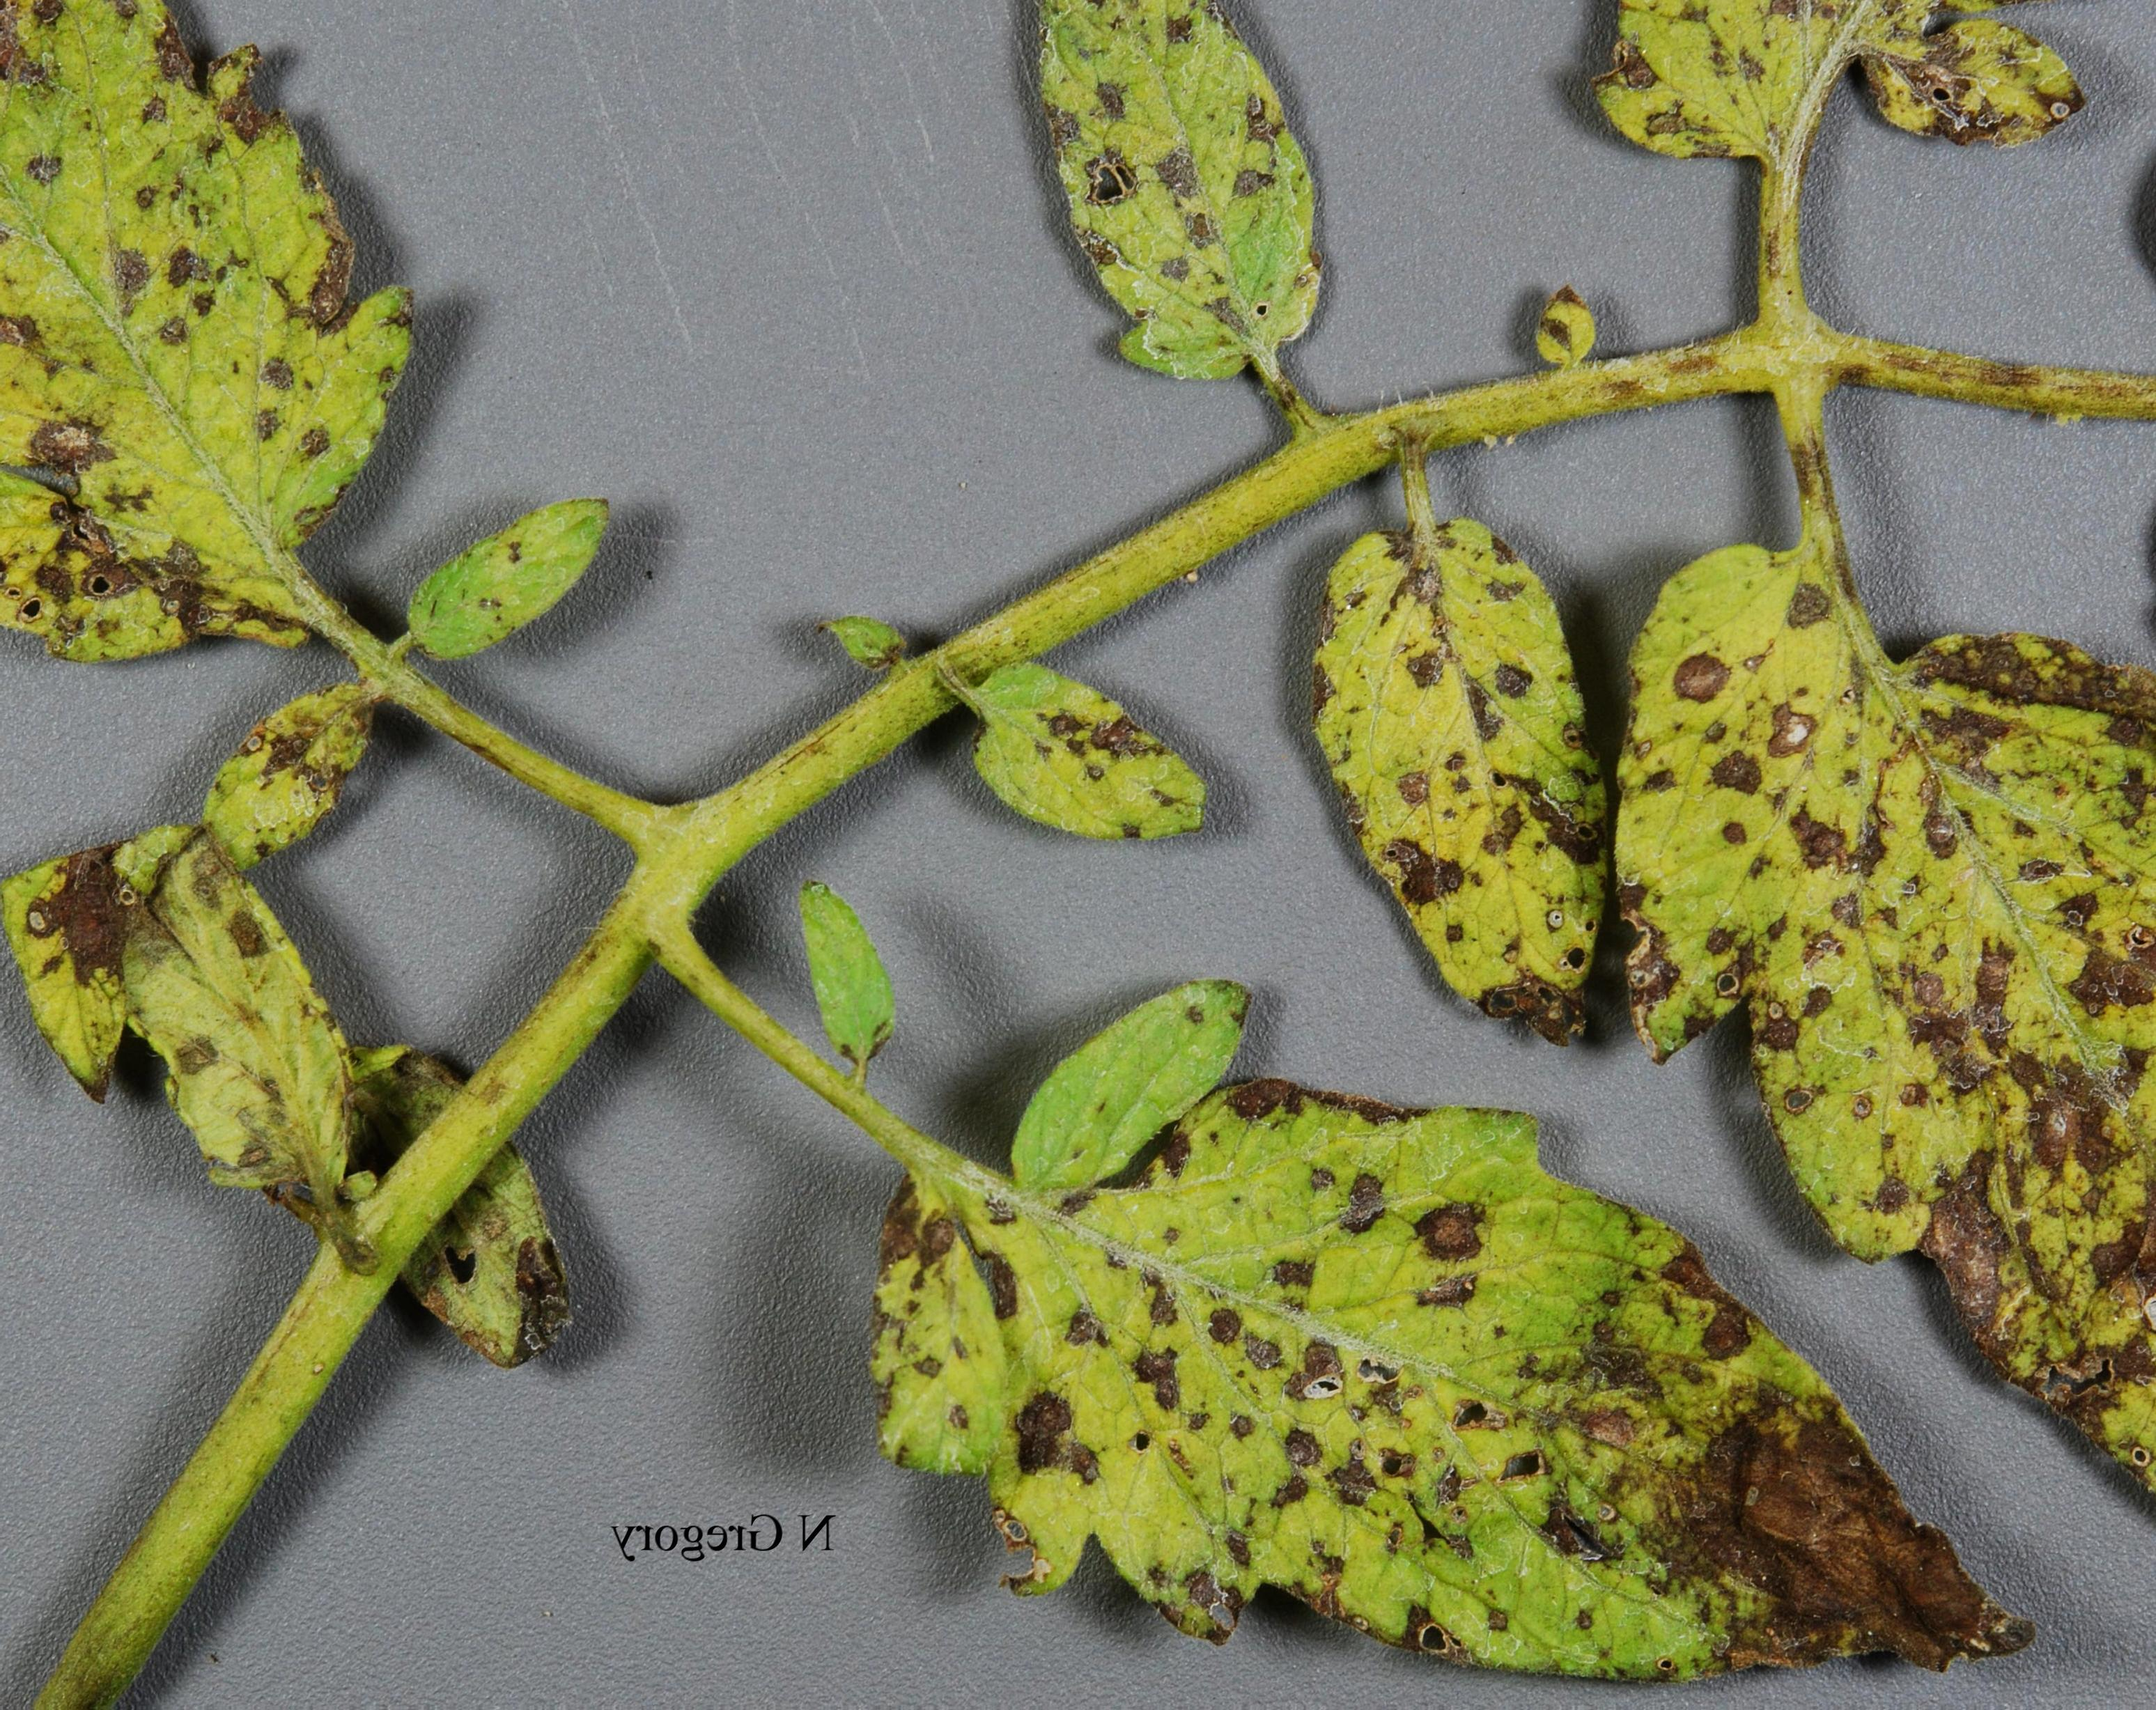Tomato Septoria leaf spot: (849, 1038, 2016, 1684), (1608, 467, 2156, 1537), (0, 21, 497, 742), (1312, 522, 1654, 1085), (961, 0, 1391, 397), (7, 786, 357, 1265), (947, 653, 1246, 914)
